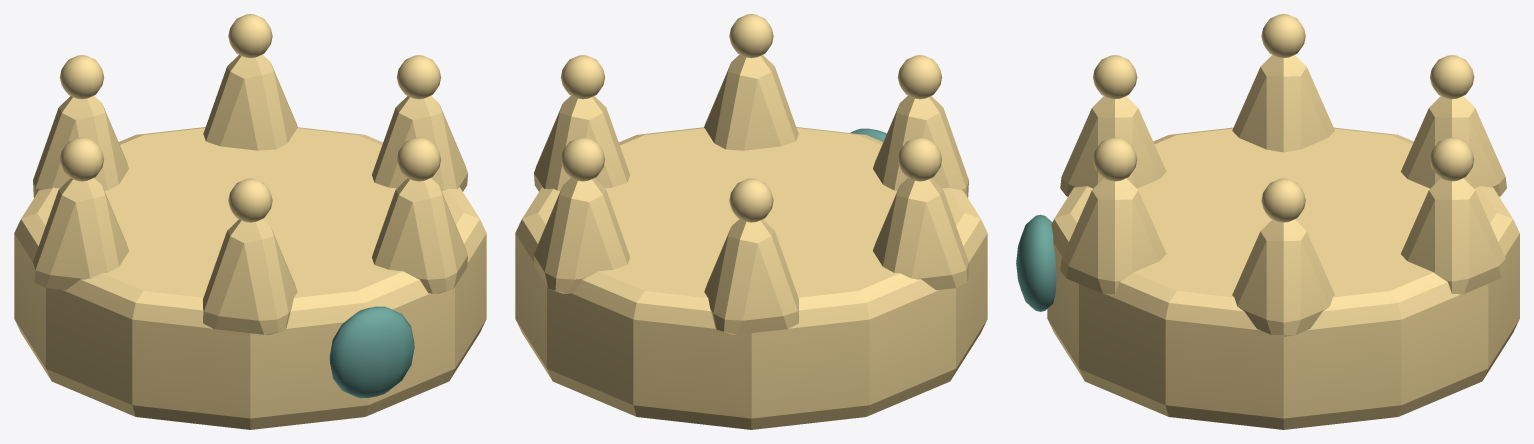
The model's file is hat_crown.glb.
3 renders of one model, left to right at view 1: azimuth 30°, elevation 25°; view 2: azimuth 150°, elevation 25°; view 3: azimuth 270°, elevation 25°, orthographic.
Visible parts, largest first — view 1: band, point.004, point.005, point.003, point.001, jewel, point, point.002, pearl.004, pearl, pearl.002, pearl.001 (+2 smaller); view 2: band, point.002, point.001, point.003, point.005, point, point.004, pearl.002, pearl, pearl.004, pearl.001, pearl.003 (+1 smaller); view 3: band, point, point.005, point.001, point.003, point.002, point.004, jewel, pearl, pearl.005, pearl.001, pearl.002 (+2 smaller).
Part boxes in pixels (bbox=[...]): band: bbox=[14, 127, 486, 429]; point.004: bbox=[203, 219, 297, 334]; point.005: bbox=[372, 178, 467, 293]; point.003: bbox=[33, 178, 128, 290]; point.001: bbox=[203, 54, 297, 150]; jewel: bbox=[329, 306, 414, 398]; point: bbox=[372, 96, 467, 191]; point.002: bbox=[33, 96, 128, 197]; pearl.004: bbox=[228, 178, 272, 222]; pearl: bbox=[396, 55, 441, 99]; pearl.002: bbox=[59, 55, 104, 99]; pearl.001: bbox=[228, 14, 272, 58]; band: bbox=[515, 127, 987, 429]; point.002: bbox=[704, 219, 798, 334]; point.001: bbox=[534, 178, 629, 293]; point.003: bbox=[873, 178, 968, 290]; point.005: bbox=[704, 54, 798, 150]; point: bbox=[534, 96, 629, 191]; point.004: bbox=[873, 96, 968, 197]; pearl.002: bbox=[729, 178, 773, 222]; pearl: bbox=[560, 55, 605, 99]; pearl.004: bbox=[897, 55, 942, 99]; pearl.001: bbox=[561, 137, 605, 181]; pearl.003: bbox=[897, 137, 941, 181]; band: bbox=[1047, 127, 1519, 429]; point: bbox=[1232, 219, 1334, 336]; point.005: bbox=[1060, 178, 1166, 294]; point.001: bbox=[1401, 178, 1506, 294]; point.003: bbox=[1232, 55, 1334, 152]; point.002: bbox=[1400, 96, 1506, 196]; point.004: bbox=[1060, 96, 1166, 196]; jewel: bbox=[1016, 214, 1056, 311]; pearl: bbox=[1261, 178, 1305, 222]; pearl.005: bbox=[1093, 137, 1137, 181]; pearl.001: bbox=[1430, 137, 1474, 181]; pearl.002: bbox=[1430, 55, 1474, 99].
Bounding box in the file's own units: 0.7181 × 0.3821 × 0.725.
